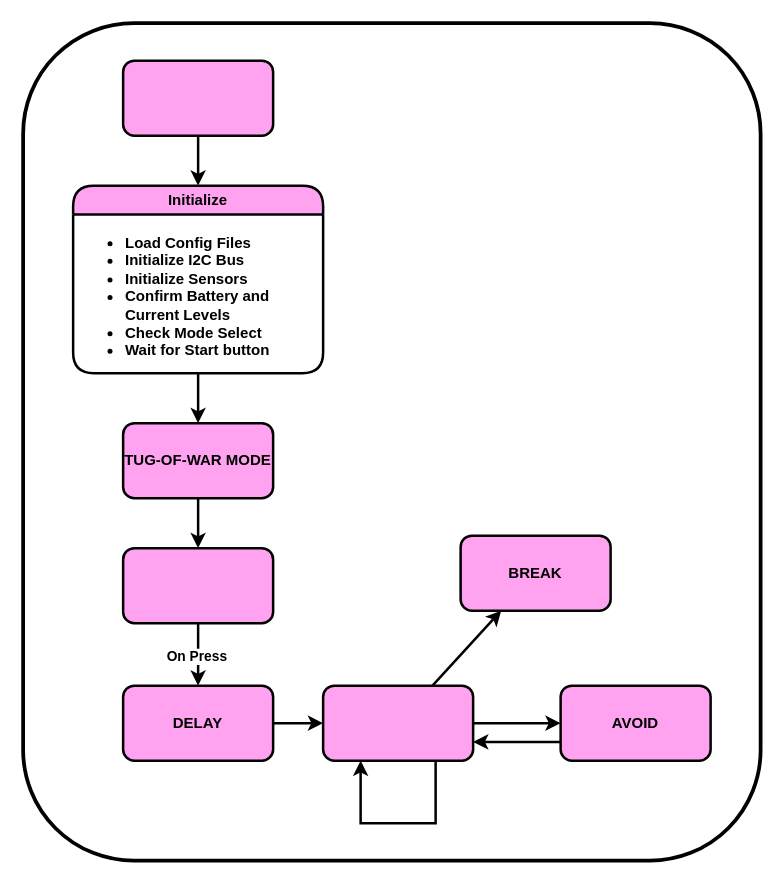
This 784x884 diagram has some shape labels left out. The shapes that lost their labels are listed below. From the top down, each one's box as (x1, y1, x2, y2) in pixels, then its label:
(121, 59, 274, 136): POWER ON
(121, 546, 274, 624): IDLE
(321, 684, 474, 761): TUG
